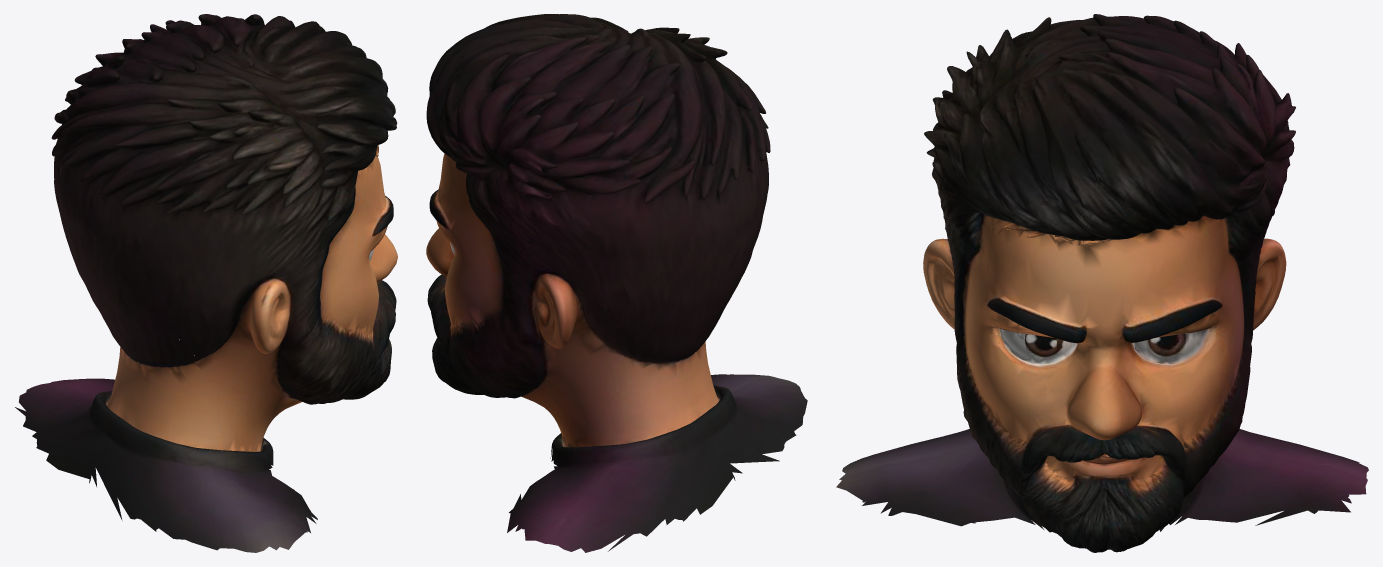
Rendered from head.glb.
The picture shows the model from 3 angles, left to right: view 1: azimuth 30°, elevation 25°; view 2: azimuth 150°, elevation 25°; view 3: azimuth 270°, elevation 25°; orthographic projection. The views are drawn at different scales.
Visible parts, largest first — view 1: tripo_node_b583f564-f3a8-453a-9666-83605634720b; view 2: tripo_node_b583f564-f3a8-453a-9666-83605634720b; view 3: tripo_node_b583f564-f3a8-453a-9666-83605634720b.
Boxes of the visible parts, x1,y1,x2,y2 form: tripo_node_b583f564-f3a8-453a-9666-83605634720b: (15, 14, 397, 552); tripo_node_b583f564-f3a8-453a-9666-83605634720b: (426, 14, 807, 552); tripo_node_b583f564-f3a8-453a-9666-83605634720b: (836, 14, 1368, 552).
Bounding box in the file's own units: 0.5275 × 0.6529 × 0.6564.
Materials: 1 (1 with a texture image).
